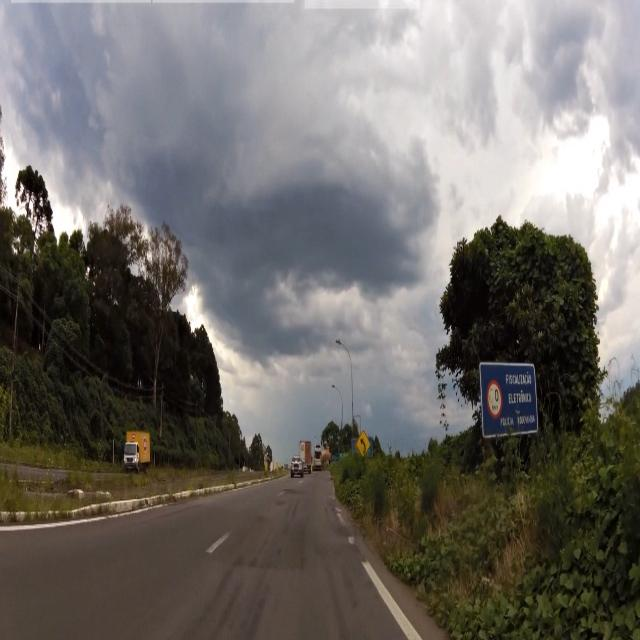A-2a: (357, 429, 371, 459)
